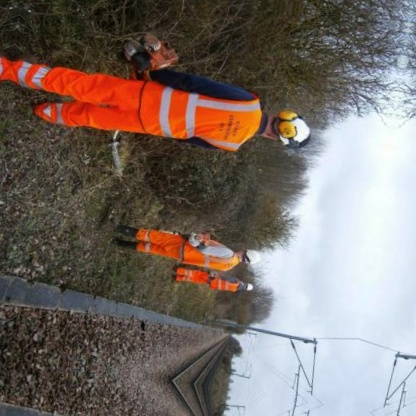vest: (133, 69, 268, 160), (178, 233, 245, 276), (206, 274, 243, 295)
white: (276, 112, 314, 152), (242, 246, 265, 269), (245, 282, 256, 295)
